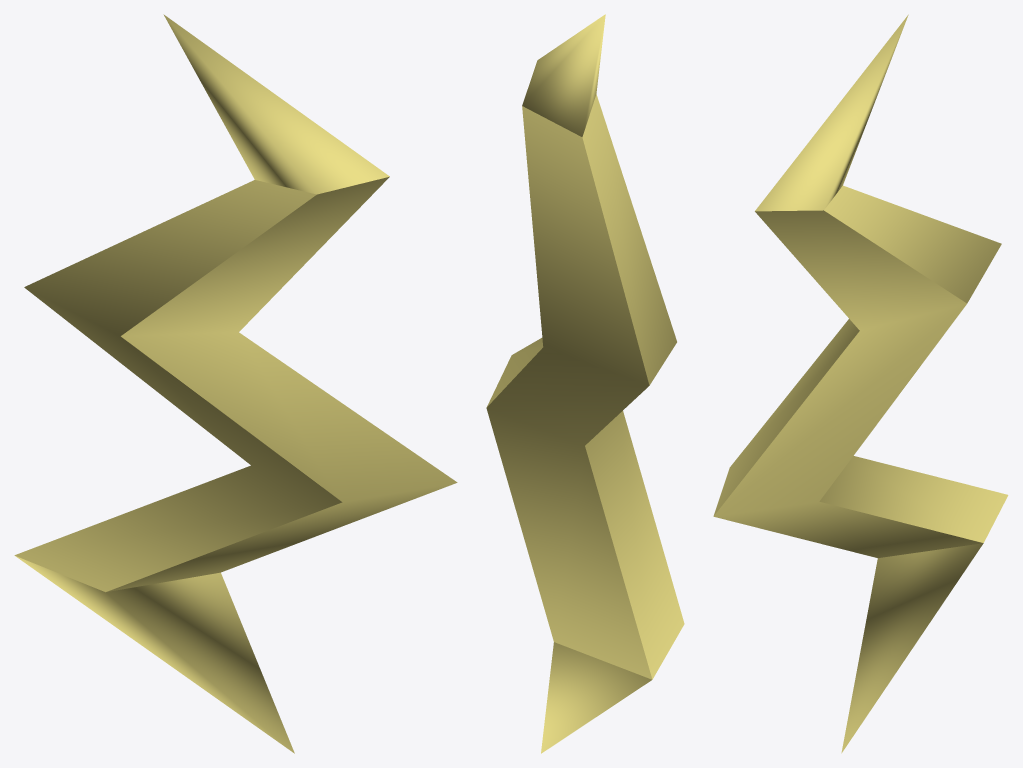
File: SpeedLambert.fbx
3 renders of one model, left to right at view 1: azimuth 30°, elevation 25°; view 2: azimuth 150°, elevation 25°; view 3: azimuth 270°, elevation 25°, orthographic. The views are drawn at different scales.
Visible parts, largest first — view 1: pCube1; view 2: pCube1; view 3: pCube1.
Boxes of the visible parts, box(x1,y1,x2,y2) form: pCube1: box(14, 14, 457, 753); pCube1: box(486, 14, 684, 753); pCube1: box(713, 14, 1008, 753).
Size of the model in its own units: 10.7 by 26.24 by 10.09.
